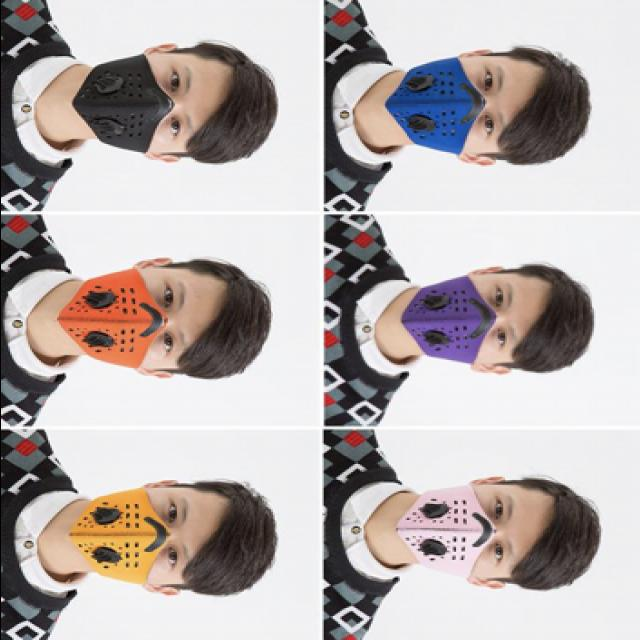with_mask: (60, 270, 192, 368), (76, 51, 200, 150), (396, 484, 520, 580), (386, 56, 510, 150), (74, 488, 192, 584), (400, 278, 520, 364)
